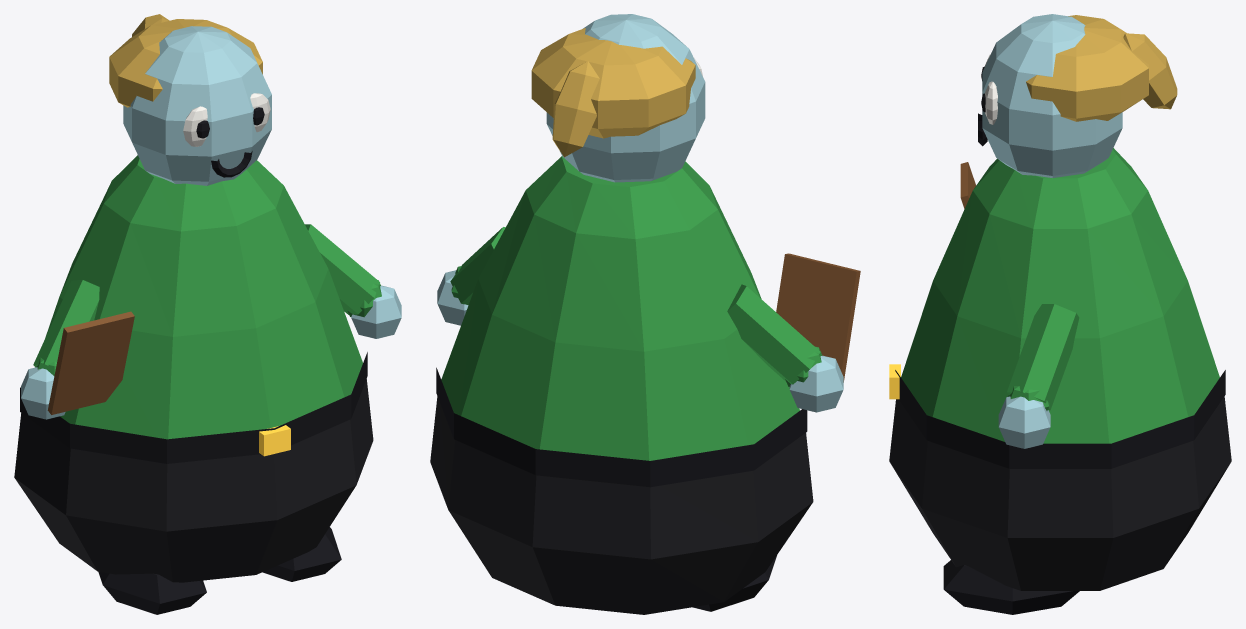
The model's file is npc_recepcionista.glb.
3 views of the same model, side by side, from view 1: azimuth 30°, elevation 25°; view 2: azimuth 150°, elevation 25°; view 3: azimuth 270°, elevation 25° (orthographic). The views are drawn at different scales.
Visible parts, largest first — view 1: body_polo_green, body_pants_black, head_skin_celeste, body_black, props_clipboard, arms_polo_green, legs_black, head_hair_blonde, arms_skin_celeste, face_white, face_black, body_gold; view 2: body_polo_green, body_pants_black, head_hair_blonde, body_black, head_skin_celeste, props_clipboard, arms_polo_green, arms_skin_celeste, cap_hair_blonde, legs_black; view 3: body_polo_green, body_pants_black, head_skin_celeste, body_black, head_hair_blonde, arms_polo_green, legs_black, arms_skin_celeste, cap_hair_blonde, props_clipboard, face_white.
Part boxes in pixels (left/top/right/bottom): body_polo_green: left=45, top=155, right=362, bottom=439; body_pants_black: left=14, top=379, right=373, bottom=582; head_skin_celeste: left=123, top=26, right=271, bottom=185; body_black: left=20, top=352, right=367, bottom=463; props_clipboard: left=47, top=311, right=134, bottom=414; arms_polo_green: left=33, top=224, right=381, bottom=375; legs_black: left=98, top=527, right=341, bottom=614; head_hair_blonde: left=109, top=19, right=262, bottom=107; arms_skin_celeste: left=21, top=285, right=401, bottom=419; face_white: left=183, top=93, right=270, bottom=146; face_black: left=196, top=107, right=264, bottom=177; body_gold: left=259, top=425, right=290, bottom=456; body_polo_green: left=441, top=156, right=799, bottom=460; body_pants_black: left=430, top=396, right=813, bottom=614; head_hair_blonde: left=531, top=28, right=695, bottom=138; body_black: left=436, top=367, right=807, bottom=487; head_skin_celeste: left=546, top=14, right=705, bottom=182; props_clipboard: left=776, top=253, right=860, bottom=382; arms_polo_green: left=450, top=227, right=822, bottom=386; arms_skin_celeste: left=437, top=270, right=843, bottom=412; cap_hair_blonde: left=552, top=61, right=599, bottom=157; legs_black: left=693, top=555, right=776, bottom=611; body_polo_green: left=901, top=148, right=1219, bottom=443; body_pants_black: left=889, top=396, right=1231, bottom=590; head_skin_celeste: left=982, top=14, right=1122, bottom=177; body_black: left=895, top=370, right=1225, bottom=468; head_hair_blonde: left=1026, top=15, right=1148, bottom=121; arms_polo_green: left=1007, top=304, right=1079, bottom=410; legs_black: left=943, top=560, right=1079, bottom=614; arms_skin_celeste: left=998, top=396, right=1050, bottom=448; cap_hair_blonde: left=1123, top=33, right=1177, bottom=109; props_clipboard: left=960, top=162, right=975, bottom=208; face_white: left=985, top=54, right=997, bottom=124.
Size of the model in its own units: 1.13 by 1.53 by 0.86.
